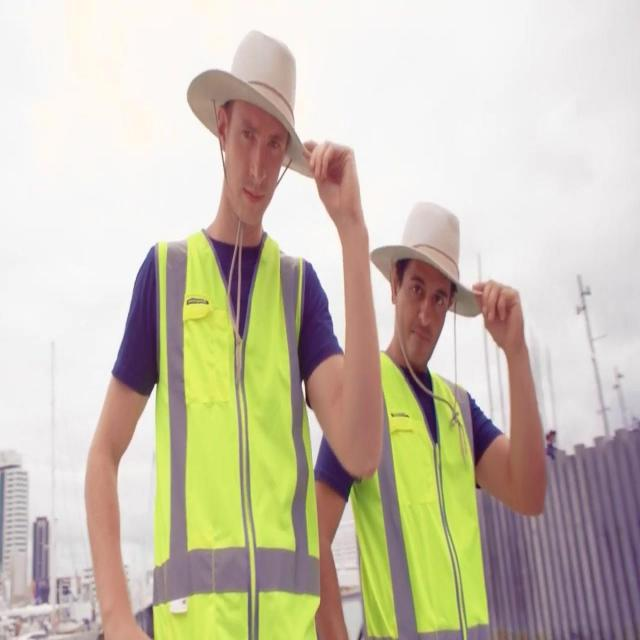Reflective-Jacket: (137, 220, 321, 638), (348, 346, 492, 640)
Safety-Helmet: (184, 20, 310, 164), (366, 186, 474, 309)
